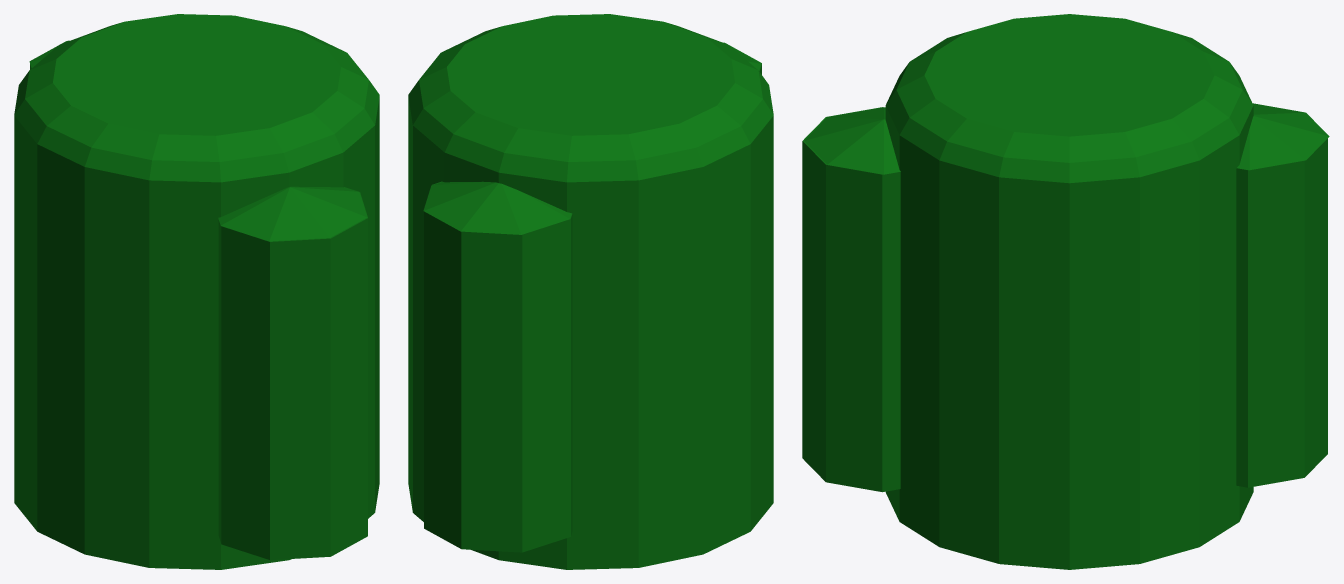
Rendered from Wasserknopf.fbx.
3 renders of one model, left to right at view 1: azimuth 30°, elevation 25°; view 2: azimuth 150°, elevation 25°; view 3: azimuth 270°, elevation 25°, orthographic.
Visible parts, largest first — view 1: Hahn.001; view 2: Hahn.001; view 3: Hahn.001.
Boxes of the visible parts, bbox=[...] form: Hahn.001: bbox=[14, 14, 379, 569]; Hahn.001: bbox=[408, 14, 773, 569]; Hahn.001: bbox=[802, 14, 1329, 569].
Bounding box in the file's own units: 4 × 5 × 5.73.
